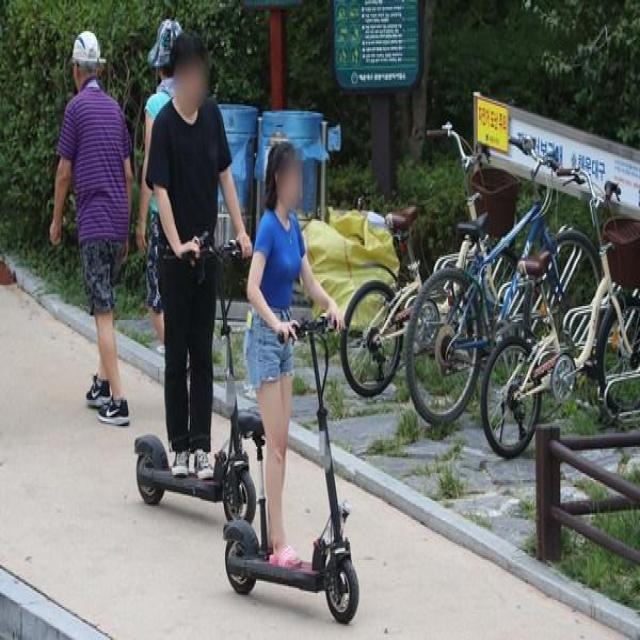non-helmet: (215, 138, 361, 634), (132, 30, 263, 531)
